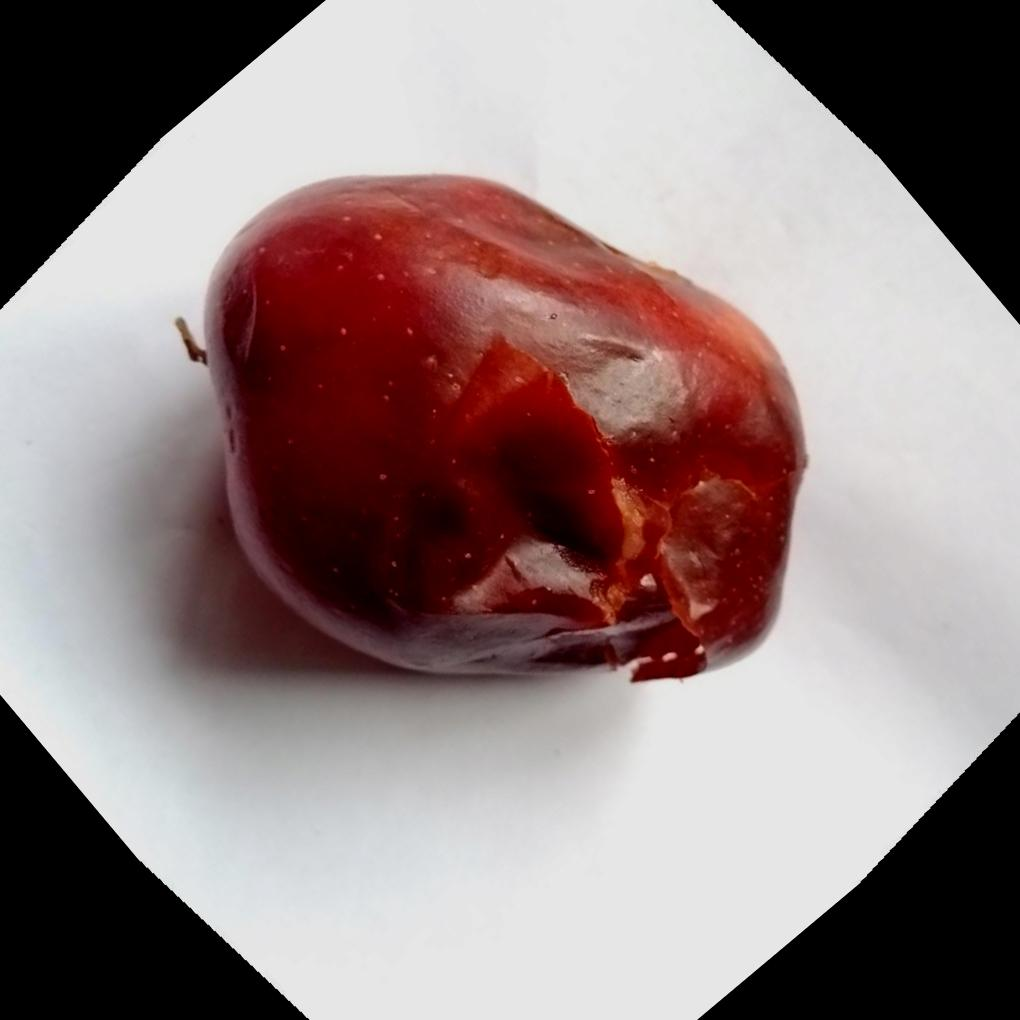FreshOrange: (175, 172, 807, 688)
